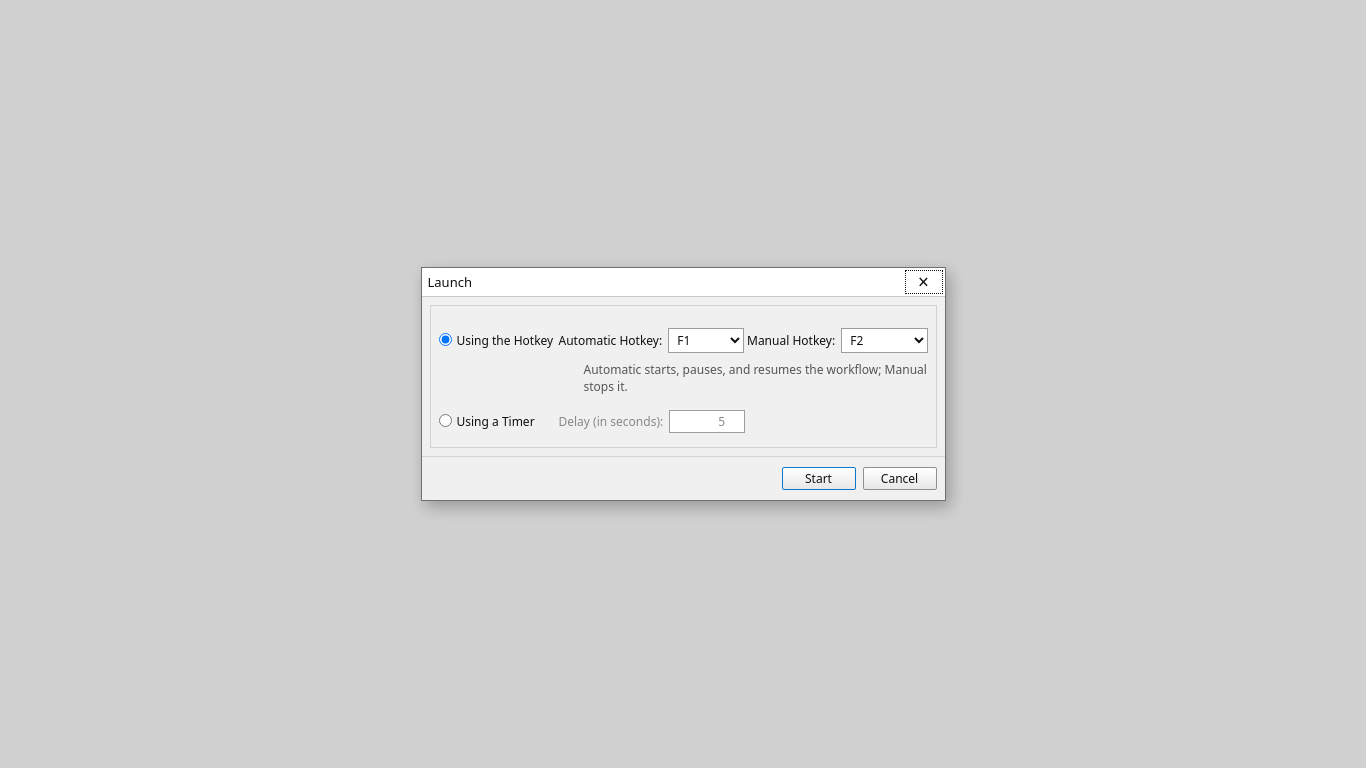
Launch dialog › allows one hotkey to toggle start and stop
Select "F1" in the dropdown labelled "Manual Hotkey:" at (884, 340), box left=841, top=328, right=928, bottom=353
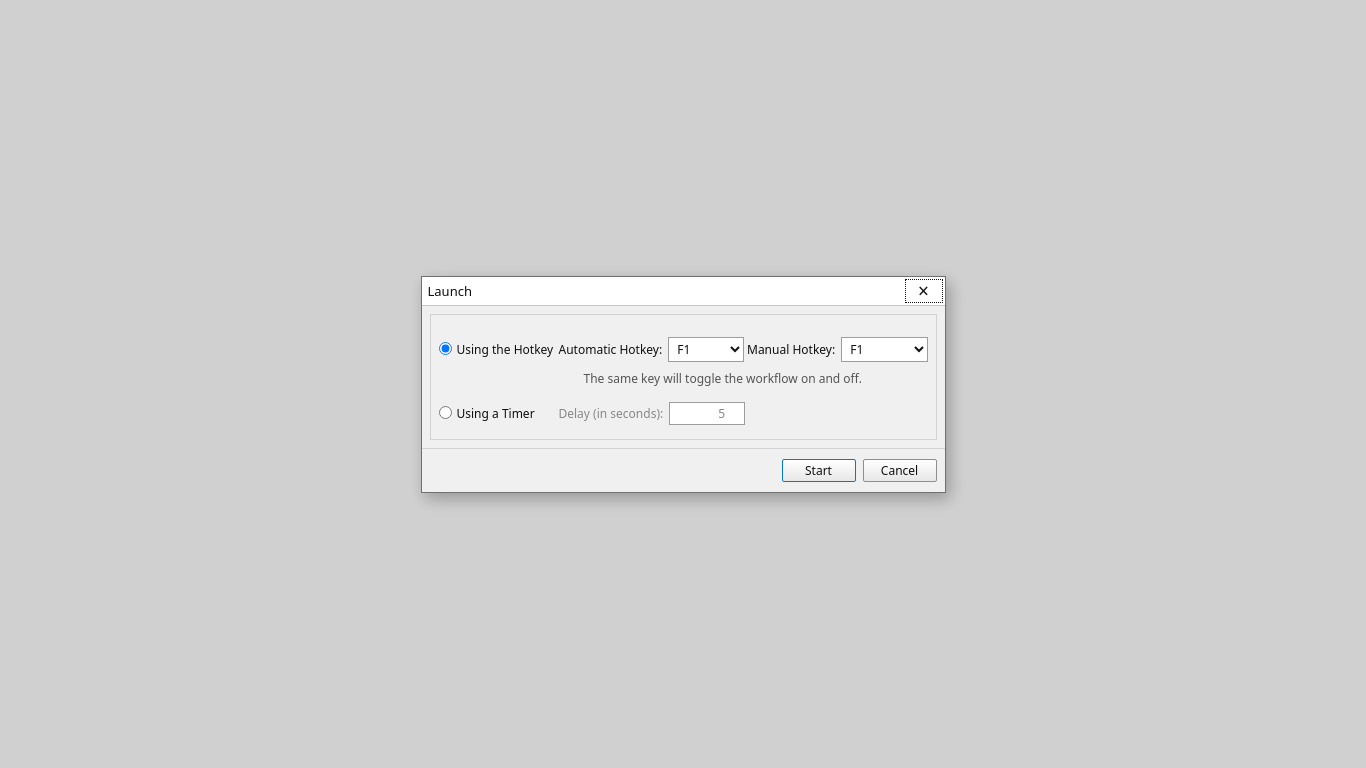
Now the text "The same key will toggle the workflow on and off." is shown, box left=584, top=370, right=862, bottom=386
